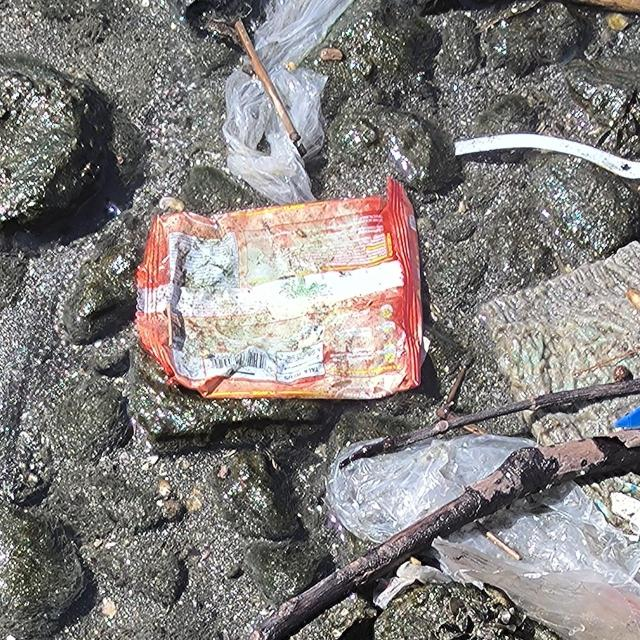plastic_waste: (135, 175, 426, 402)
